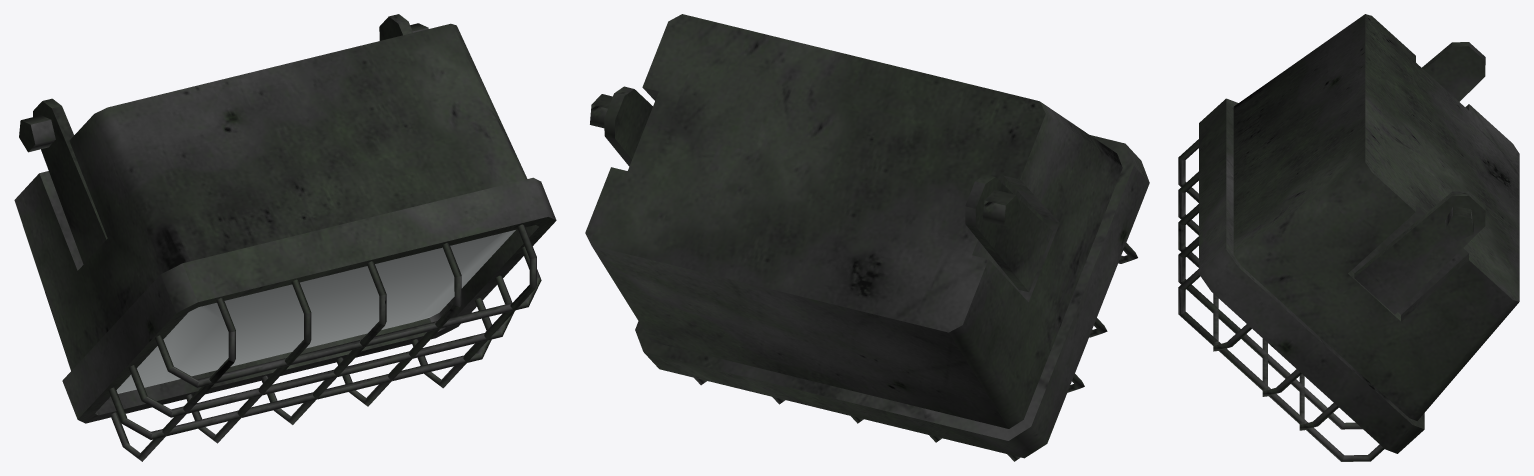
File: flood_light.fbx
3 renders of one model, left to right at view 1: azimuth 30°, elevation 25°; view 2: azimuth 150°, elevation 25°; view 3: azimuth 270°, elevation 25°, orthographic. The views are drawn at different scales.
Visible parts, largest first — view 1: Model; view 2: Model; view 3: Model.
Part boxes in pixels (box(x1,y1,x2,y2)): Model: box(14, 14, 556, 461); Model: box(585, 14, 1149, 461); Model: box(1178, 14, 1519, 461).
Bounding box in the file's own units: 21.42 × 17.99 × 18.01.
